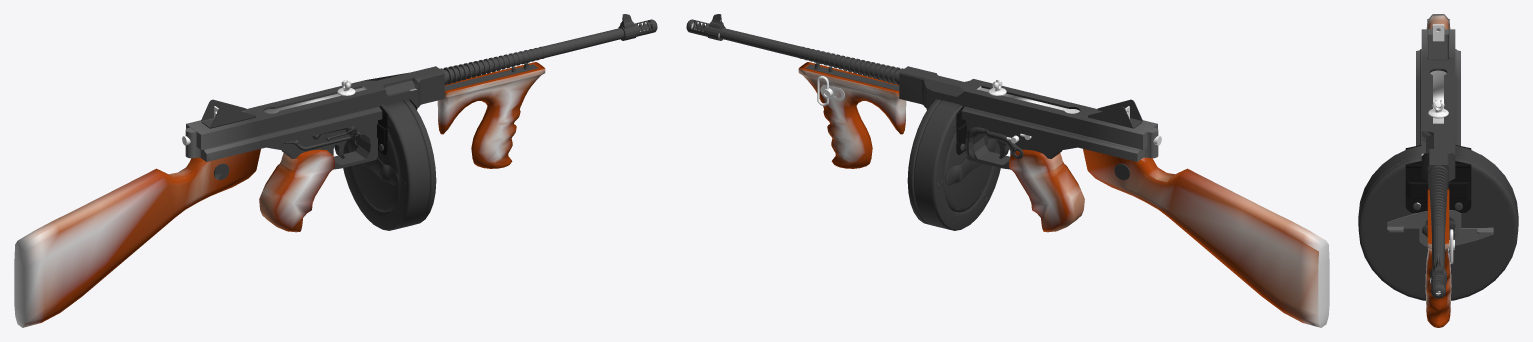
File: ThompsonGun.fbx
3 views of the same model, side by side, from view 1: azimuth 30°, elevation 25°; view 2: azimuth 150°, elevation 25°; view 3: azimuth 270°, elevation 25° (orthographic). The views are drawn at different scales.
Visible parts, largest first — view 1: Thompson; view 2: Thompson; view 3: Thompson.
Boxes of the visible parts, box(x1,y1,x2,y2) form: Thompson: box(14, 14, 657, 327); Thompson: box(686, 14, 1329, 327); Thompson: box(1358, 14, 1518, 327).
Size of the model in its own units: 958 by 252 by 185.
